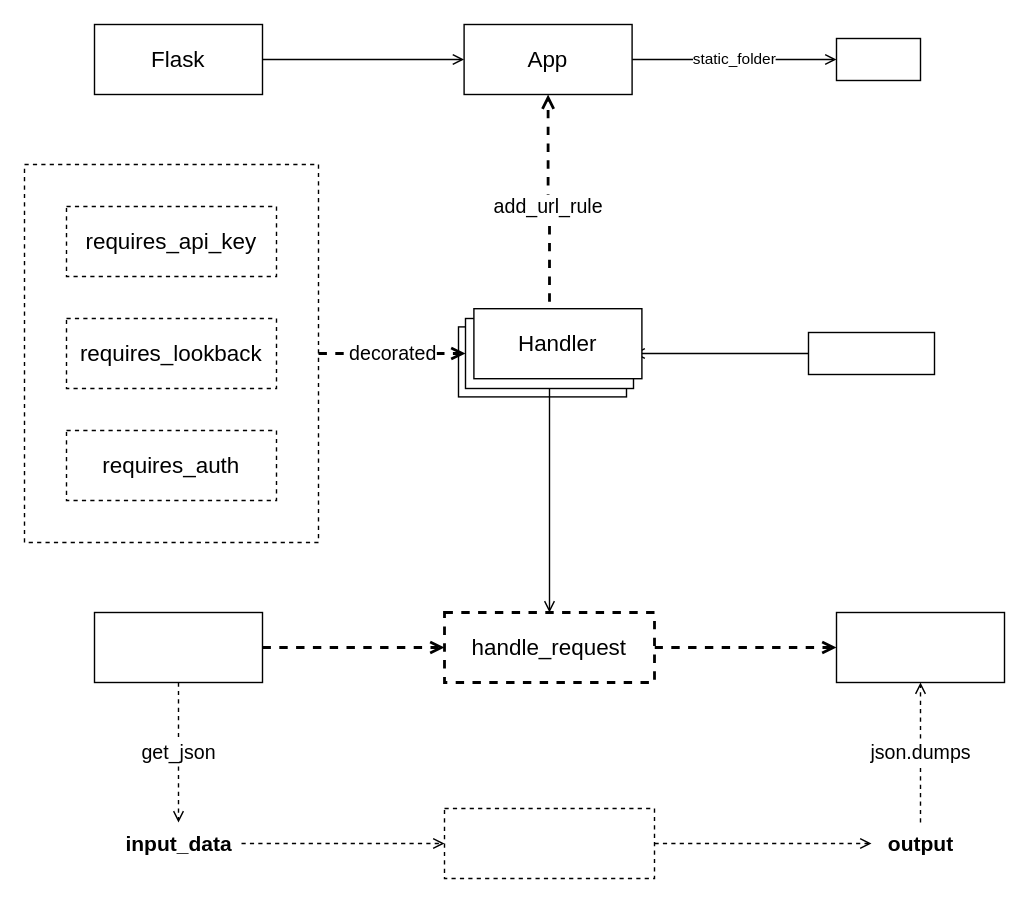
This 1029x903 diagram has some shape labels left out. Here are the shapes that lost their labels. From the top down, the box of each, then its label:
(835, 37, 920, 80): webui
(807, 331, 934, 374): python/api
(93, 611, 262, 682): Request
(835, 611, 1004, 682): Response
(443, 807, 654, 878): process
